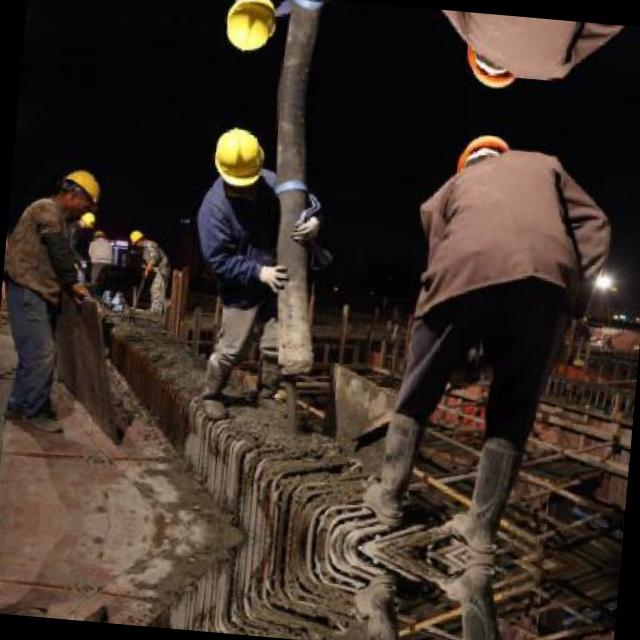helmet: (205, 119, 269, 191), (217, 0, 282, 58), (456, 128, 516, 180), (464, 40, 524, 90), (54, 163, 104, 219), (124, 226, 147, 249), (74, 208, 96, 230)
